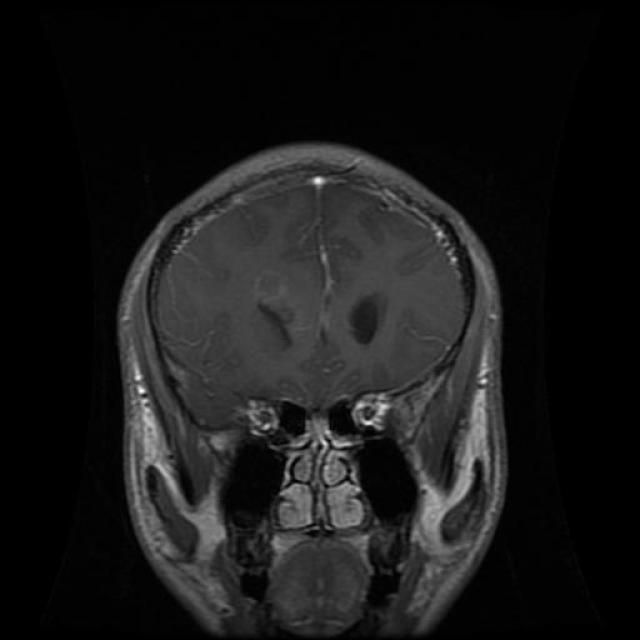glioma: (342, 288, 390, 346)
